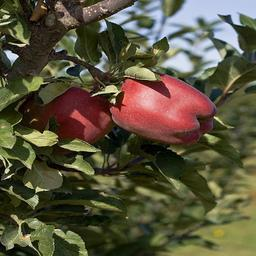apple: (109, 71, 215, 145), (21, 87, 117, 149)
